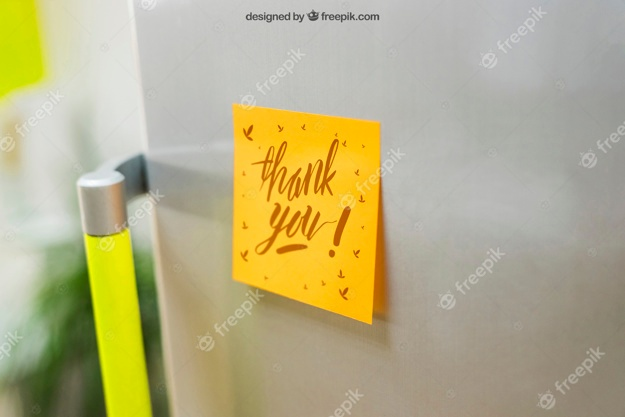Note: (231, 101, 377, 326)
